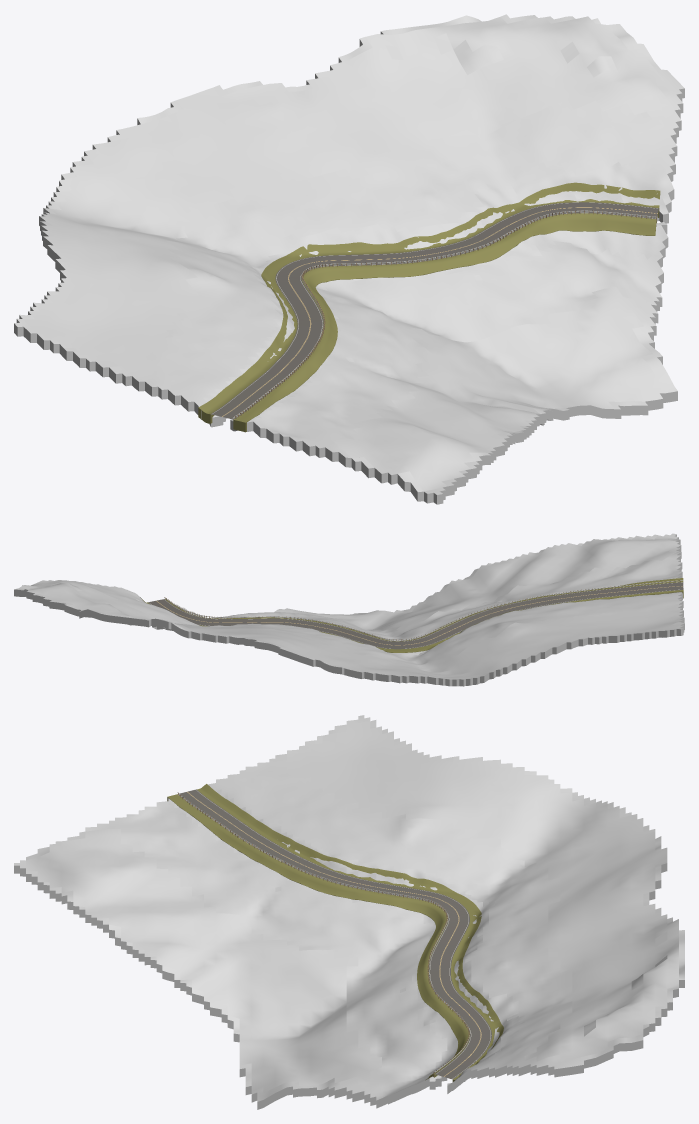
File: conz_145.glb
3 renders of one model, top to bottom at view 1: azimuth 30°, elevation 25°; view 2: azimuth 150°, elevation 25°; view 3: azimuth 270°, elevation 25°, orthographic. The views are drawn at different scales.
Parts seen in each view (by area): view 1: terrain145, road145, verge145L, verge145R, posts145_503100, beam145_503100; view 2: terrain145, road145, verge145L, beam145_503100, verge145R, paint_yellow145, posts145_503100, paint_white145; view 3: terrain145, road145, verge145L, verge145R, posts145_503100, paint_white145.
Part boxes in pixels (x1,y1,x2,y2): terrain145: (14, 14, 684, 504); road145: (211, 202, 658, 419); verge145L: (233, 213, 656, 432); verge145R: (198, 182, 660, 423); posts145_503100: (235, 210, 656, 418); beam145_503100: (233, 210, 656, 417); terrain145: (14, 533, 684, 686); road145: (148, 582, 683, 649); verge145L: (165, 578, 683, 641); beam145_503100: (164, 580, 683, 640); verge145R: (140, 590, 683, 652); paint_yellow145: (156, 586, 682, 645); posts145_503100: (164, 580, 680, 641); paint_white145: (148, 582, 683, 648); terrain145: (14, 715, 684, 1109); road145: (178, 789, 491, 1079); verge145L: (167, 794, 469, 1080); verge145R: (197, 784, 503, 1081); posts145_503100: (178, 793, 469, 1076); paint_white145: (179, 790, 491, 1078).
Size of the model in its own units: 256 by 61.03 by 226.
